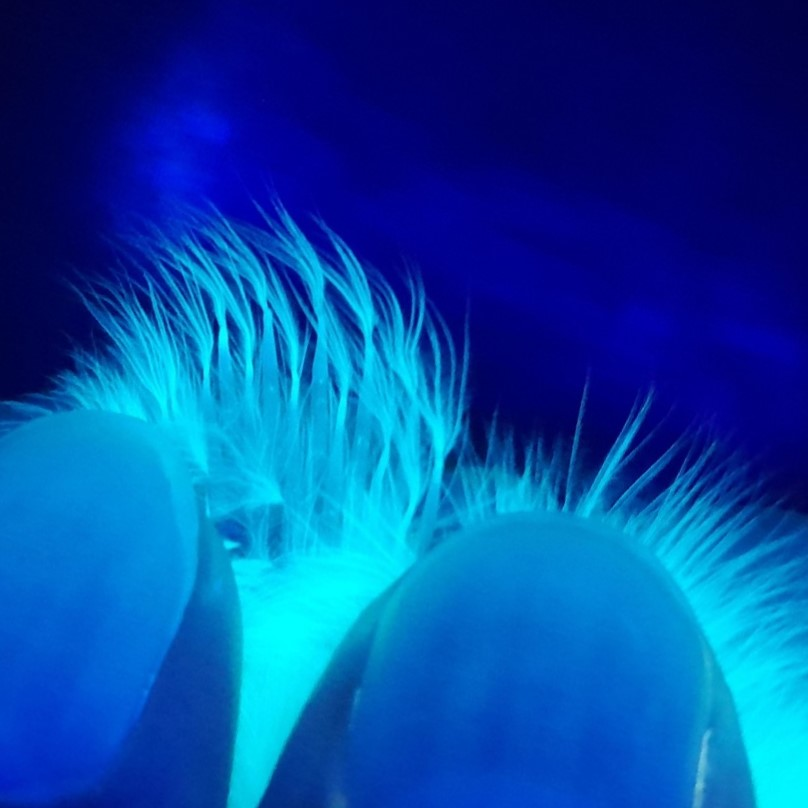female: (176, 287, 438, 567)
